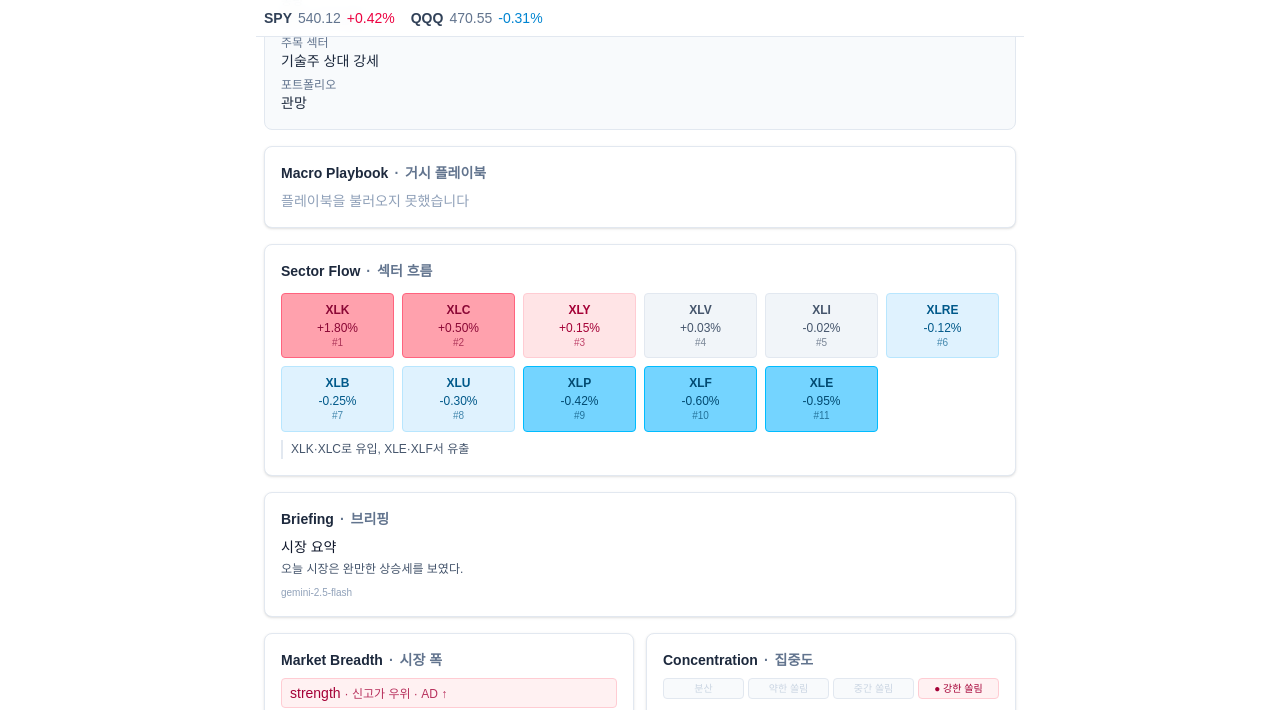
행위보존 회귀 › Sector 히트맵 클릭 → sector CardDrawer 열림
(page scrolled)
Expected: the element with test id "^sector-tile-" is shown, [281,293,394,358]
Click the button with aria-label "Sector 히트맵".
click(640, 360)  # box [264,244,1016,476]
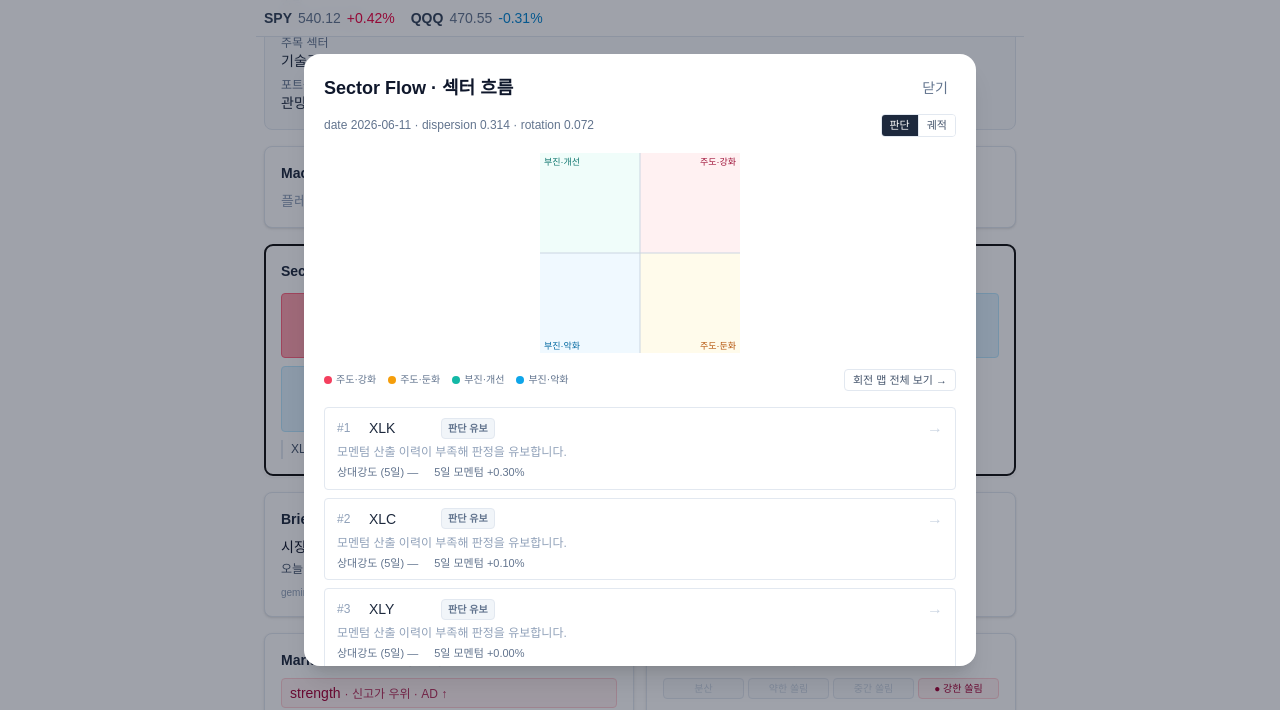
Now the heading "Sector Flow · 섹터 흐름" is shown, box [324,74,513,102]
